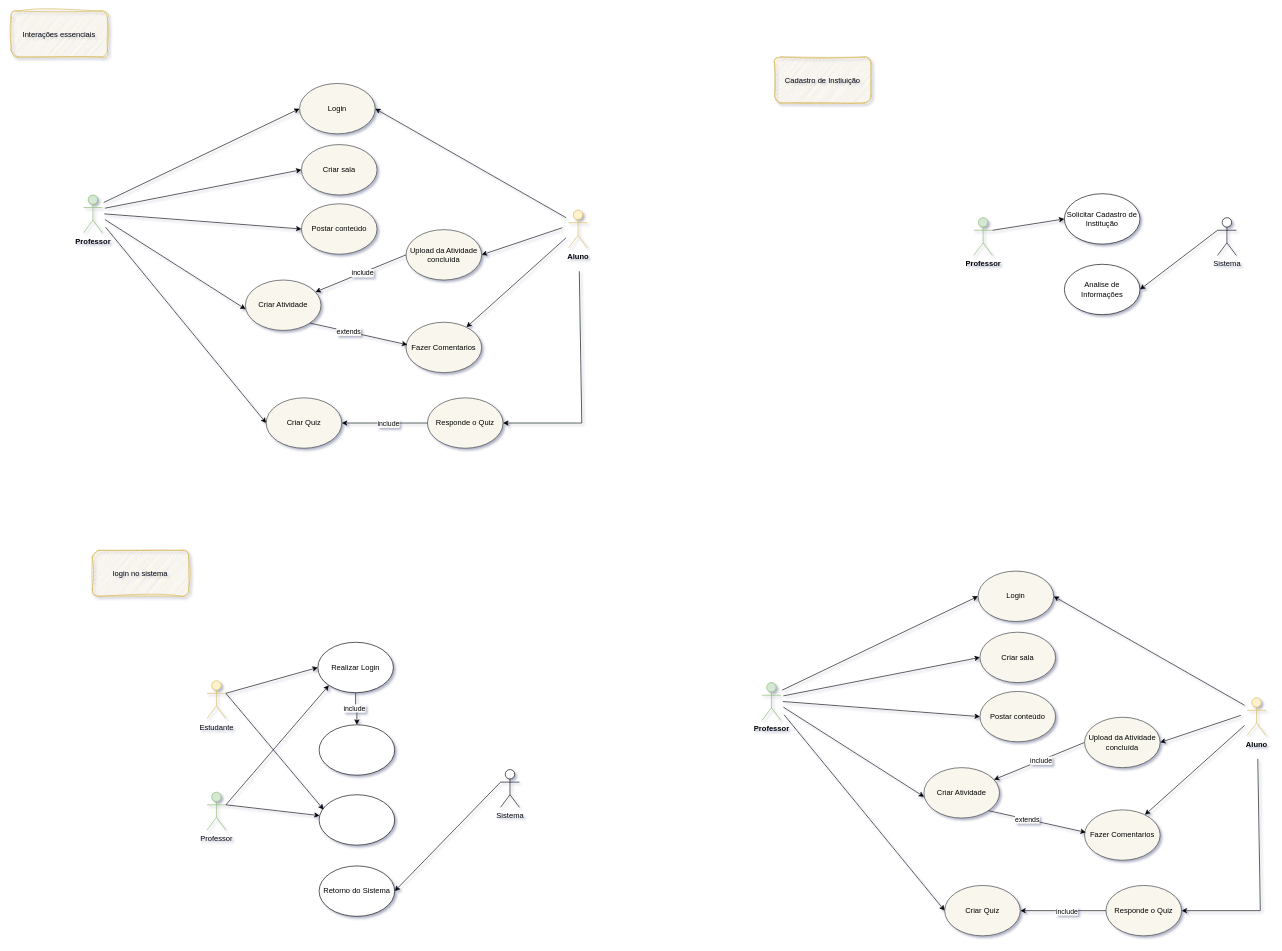
Some shapes in this 1282 by 951 pixel diagram are drawn without their labels. Each missing label, with the box of its shape:
Cadastrar Senha: (318, 794, 395, 845)
Redefinir Senha: (318, 724, 395, 775)
